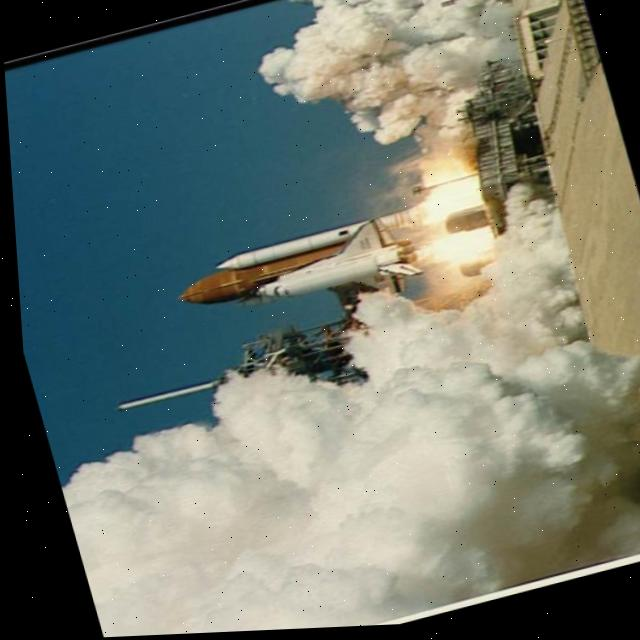missile: (161, 199, 431, 344)
